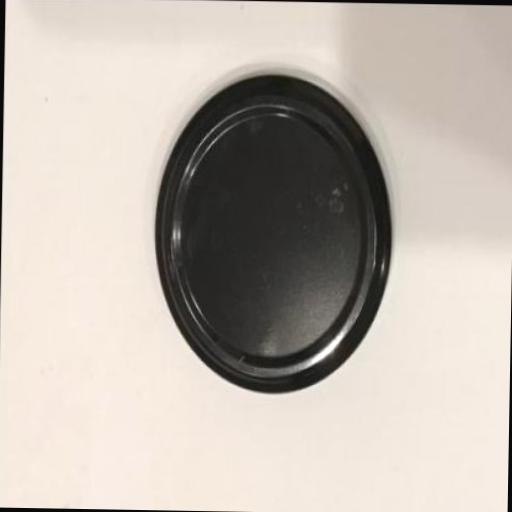metal: (148, 72, 394, 397)
